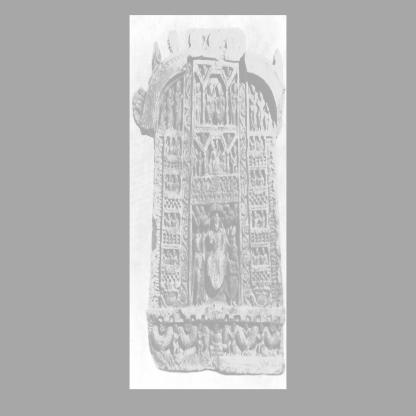buddha-sitting: (208, 212, 228, 290)
